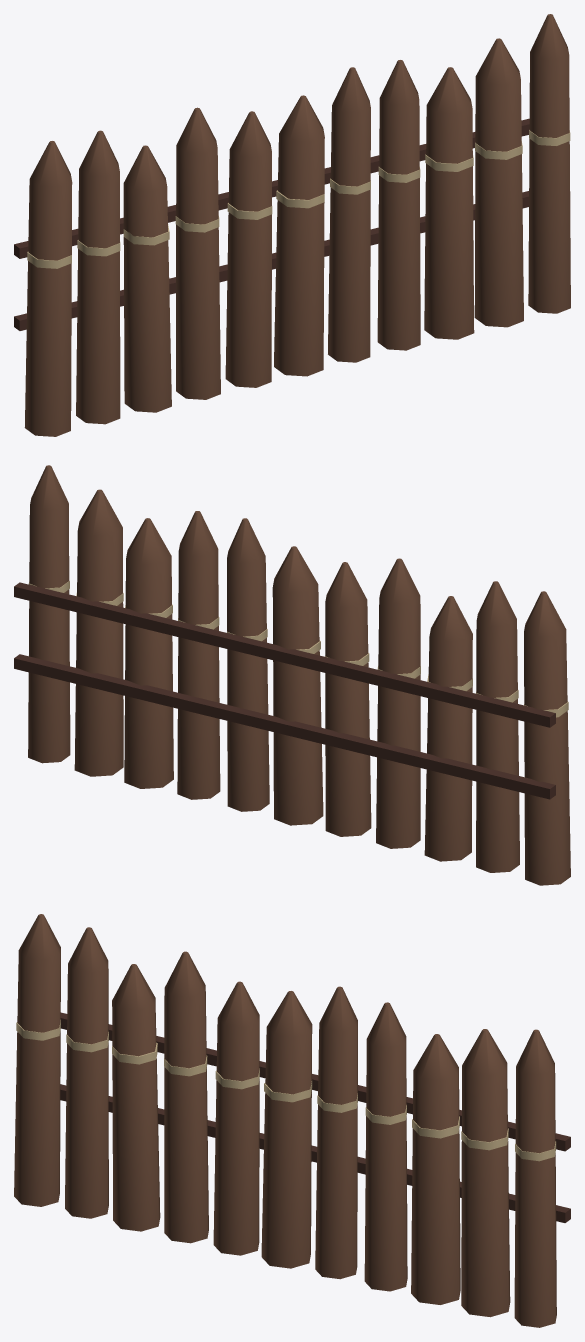
Rendered from palisade.glb.
3 renders of one model, top to bottom at view 1: azimuth 30°, elevation 25°; view 2: azimuth 150°, elevation 25°; view 3: azimuth 330°, elevation 25°, orthographic.
Visible parts, largest first — view 1: stake0; view 2: stake0; view 3: stake0.
Part boxes in pixels (x1,y1,x2,y2): stake0: (14,14,570,436); stake0: (14,465,570,885); stake0: (14,914,570,1327).
Size of the model in its own units: 8.6 by 4.41 by 0.7884.
